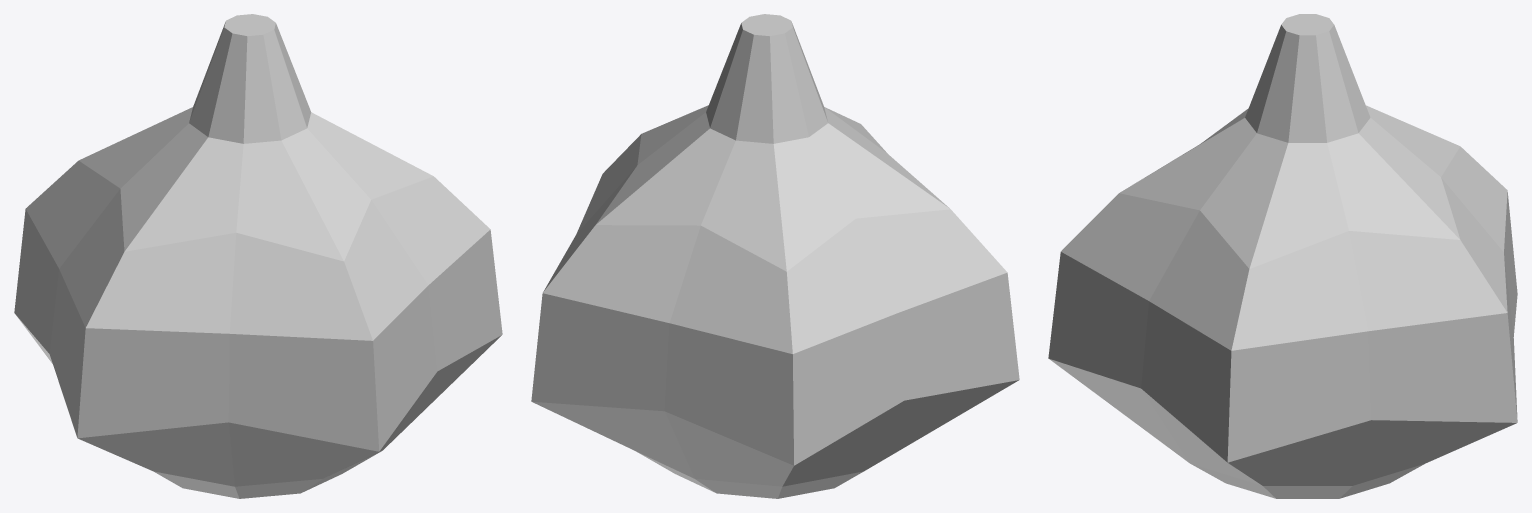
The model's file is garlic01.gltf.
3 renders of one model, left to right at view 1: azimuth 30°, elevation 25°; view 2: azimuth 150°, elevation 25°; view 3: azimuth 270°, elevation 25°, orthographic.
Parts seen in each view (by area): view 1: Cylinder.001; view 2: Cylinder.001; view 3: Cylinder.001.
Boxes of the visible parts, bbox=[...] form: Cylinder.001: bbox=[14, 14, 502, 498]; Cylinder.001: bbox=[531, 14, 1019, 498]; Cylinder.001: bbox=[1048, 14, 1517, 498].
Size of the model in its own units: 0.0321 by 0.0312 by 0.0306.
1 material, 1 textured.
